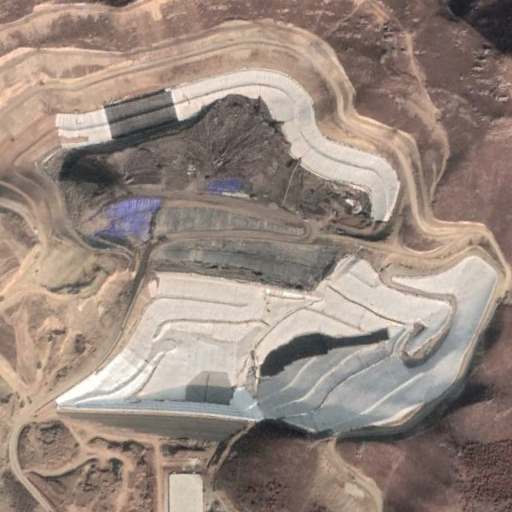lf: (17, 36, 506, 437)
